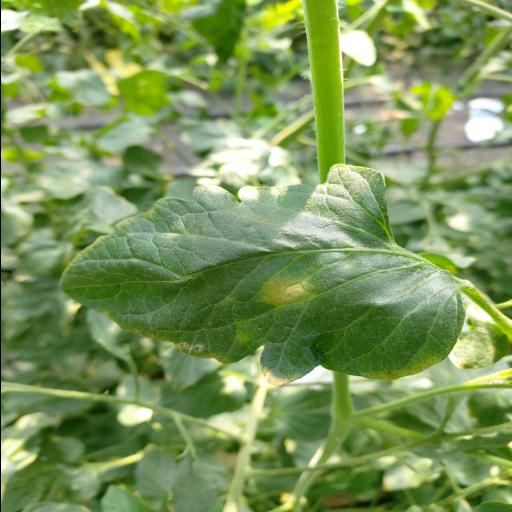Leaf Mold: (60, 164, 464, 386)
